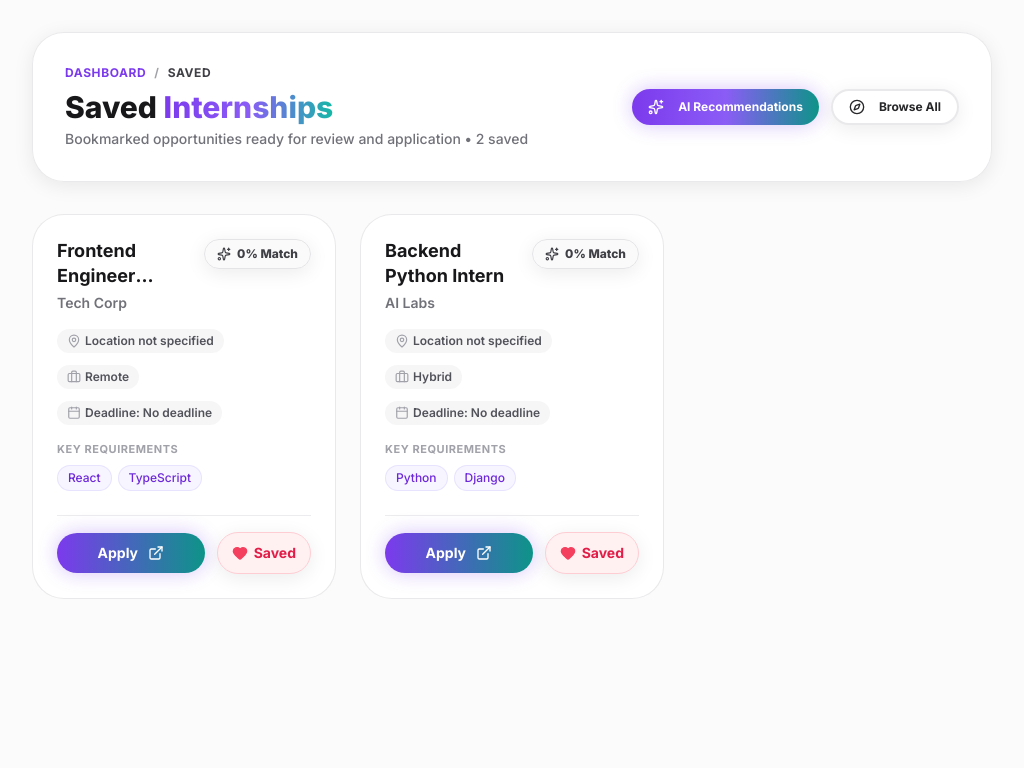
Test case: SavedInternshipsPage › unsaving an internship immediately removes it from the list without page reload
Expected: the heading "Frontend Engineer Intern" is shown, [57,240,136,310]
Click unsave on the first item
Click the button with aria-label "Unsave": (264, 553) [217,532,311,574]
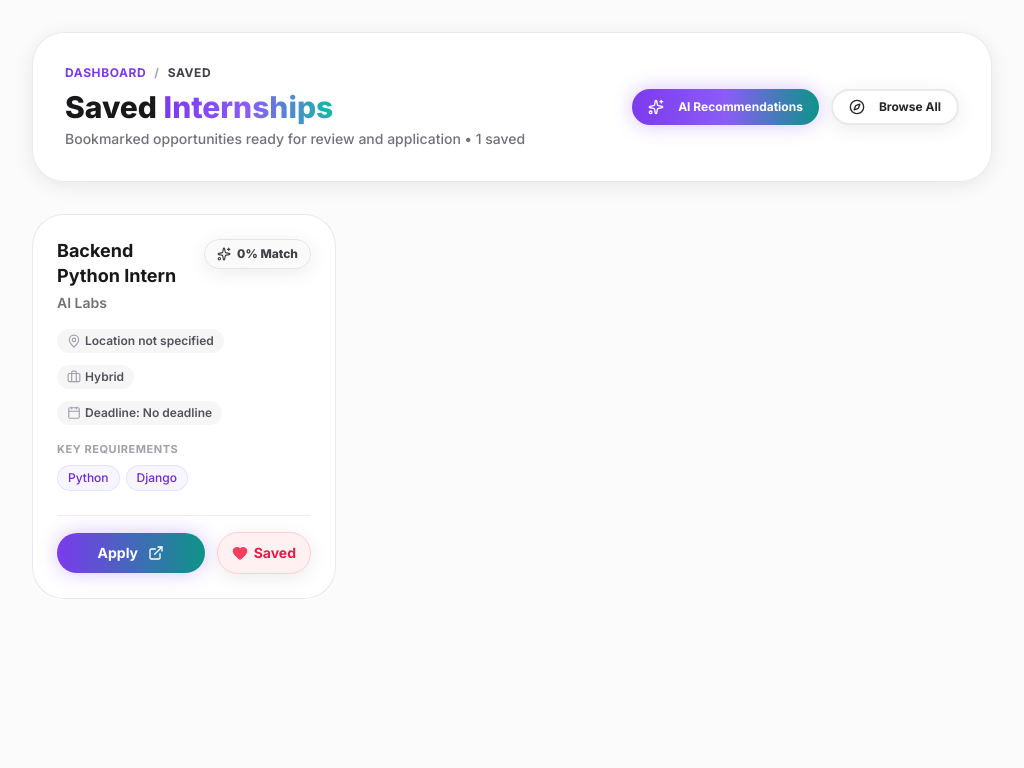
Expected: the heading "Backend Python Intern" is shown, [57,239,188,288]
Expected: the link "Frontend Engineer Intern" is gone
